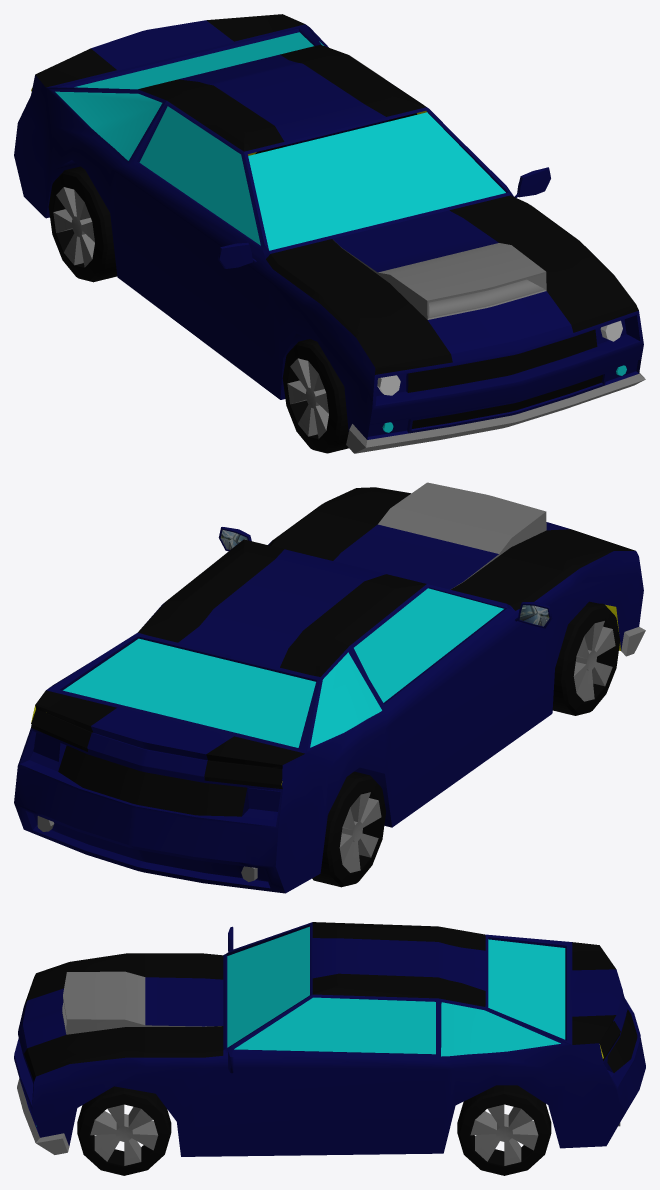
File: red_car_.fbx
The picture shows the model from 3 angles, top to bottom: view 1: azimuth 30°, elevation 25°; view 2: azimuth 150°, elevation 25°; view 3: azimuth 270°, elevation 25°; orthographic projection. The views are drawn at different scales.
Visible parts, largest first — view 1: red_car_body, rc_trye_5, rc_trye_4, left_mirror_red1, left_mirror_red; view 2: red_car_body, rc_trye_4, rc_trye_5, left_mirror_red1; view 3: red_car_body, rc_trye_6, rc_trye_1.
Part boxes in pixels (x1,y1,x2,y2): red_car_body: (14, 14, 645, 453); rc_trye_5: (48, 166, 117, 282); rc_trye_4: (282, 339, 348, 453); left_mirror_red1: (218, 242, 256, 268); left_mirror_red: (515, 167, 550, 197); red_car_body: (14, 482, 645, 893); rc_trye_4: (552, 601, 620, 715); rc_trye_5: (312, 771, 385, 887); left_mirror_red1: (515, 602, 552, 628); red_car_body: (14, 922, 645, 1156); rc_trye_6: (457, 1085, 551, 1175); rc_trye_1: (77, 1086, 171, 1175).
Size of the model in its own units: 231 by 136 by 468.
Materials: 7 (1 with a texture image).
